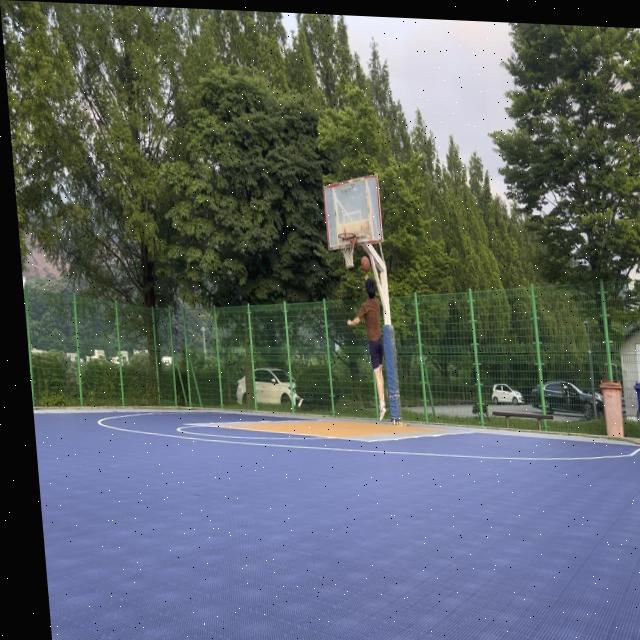basketball: (360, 255, 371, 273)
hoop: (337, 232, 359, 271)
